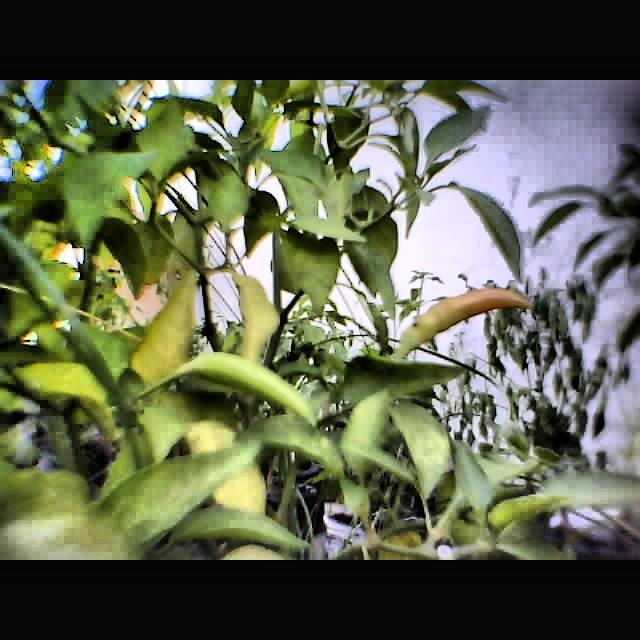Cabai: (396, 285, 526, 360)
